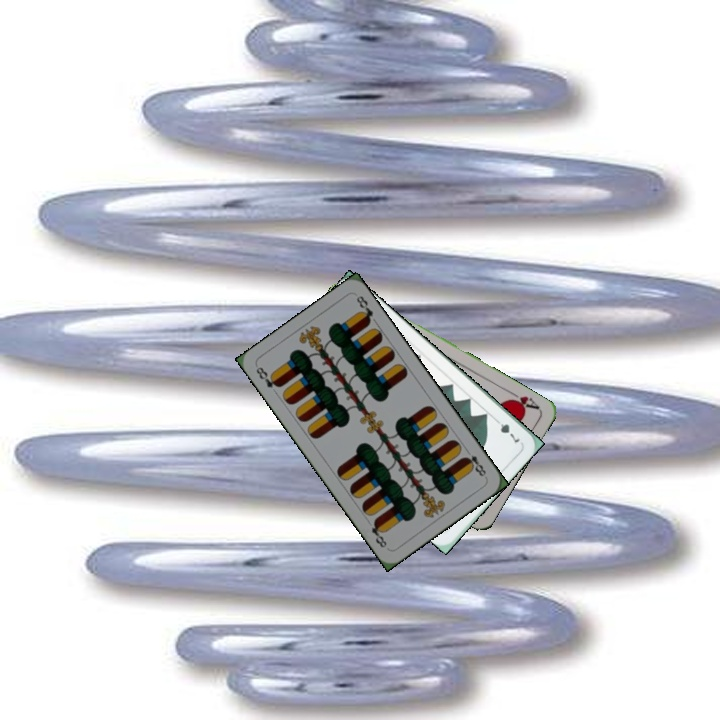E8: (460, 444, 489, 480), (252, 363, 283, 391)
G7: (490, 414, 523, 445)
HA: (504, 386, 542, 413)
